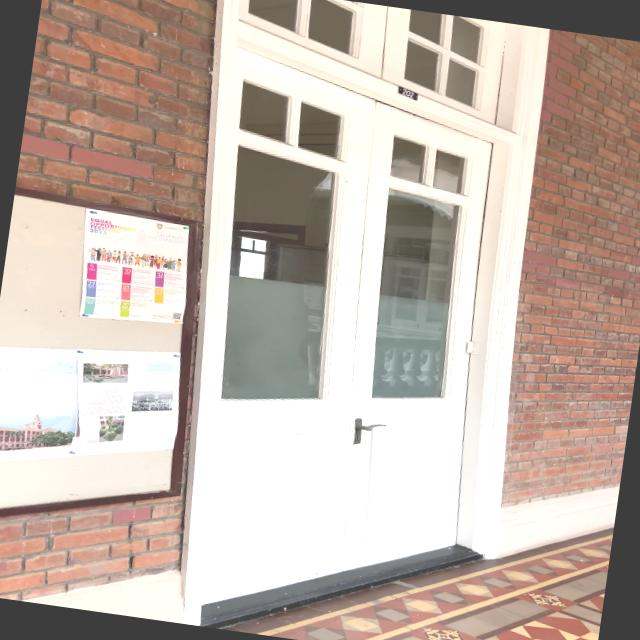room202: (394, 82, 420, 101)
